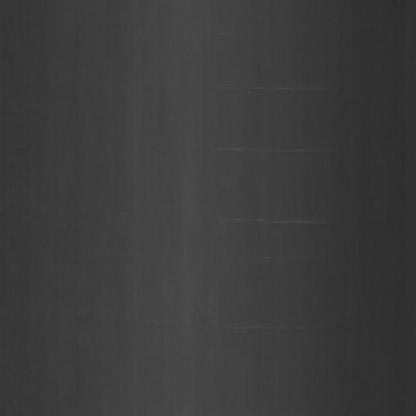waist_folding: (225, 47, 352, 346)
